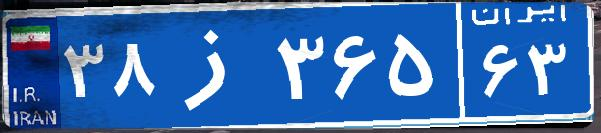3: (273, 28, 330, 110), (57, 26, 110, 107), (525, 38, 570, 115)
5: (385, 28, 445, 110)
6: (330, 28, 385, 110), (475, 38, 525, 113)
8: (110, 28, 158, 105)
ز: (158, 15, 273, 115)
